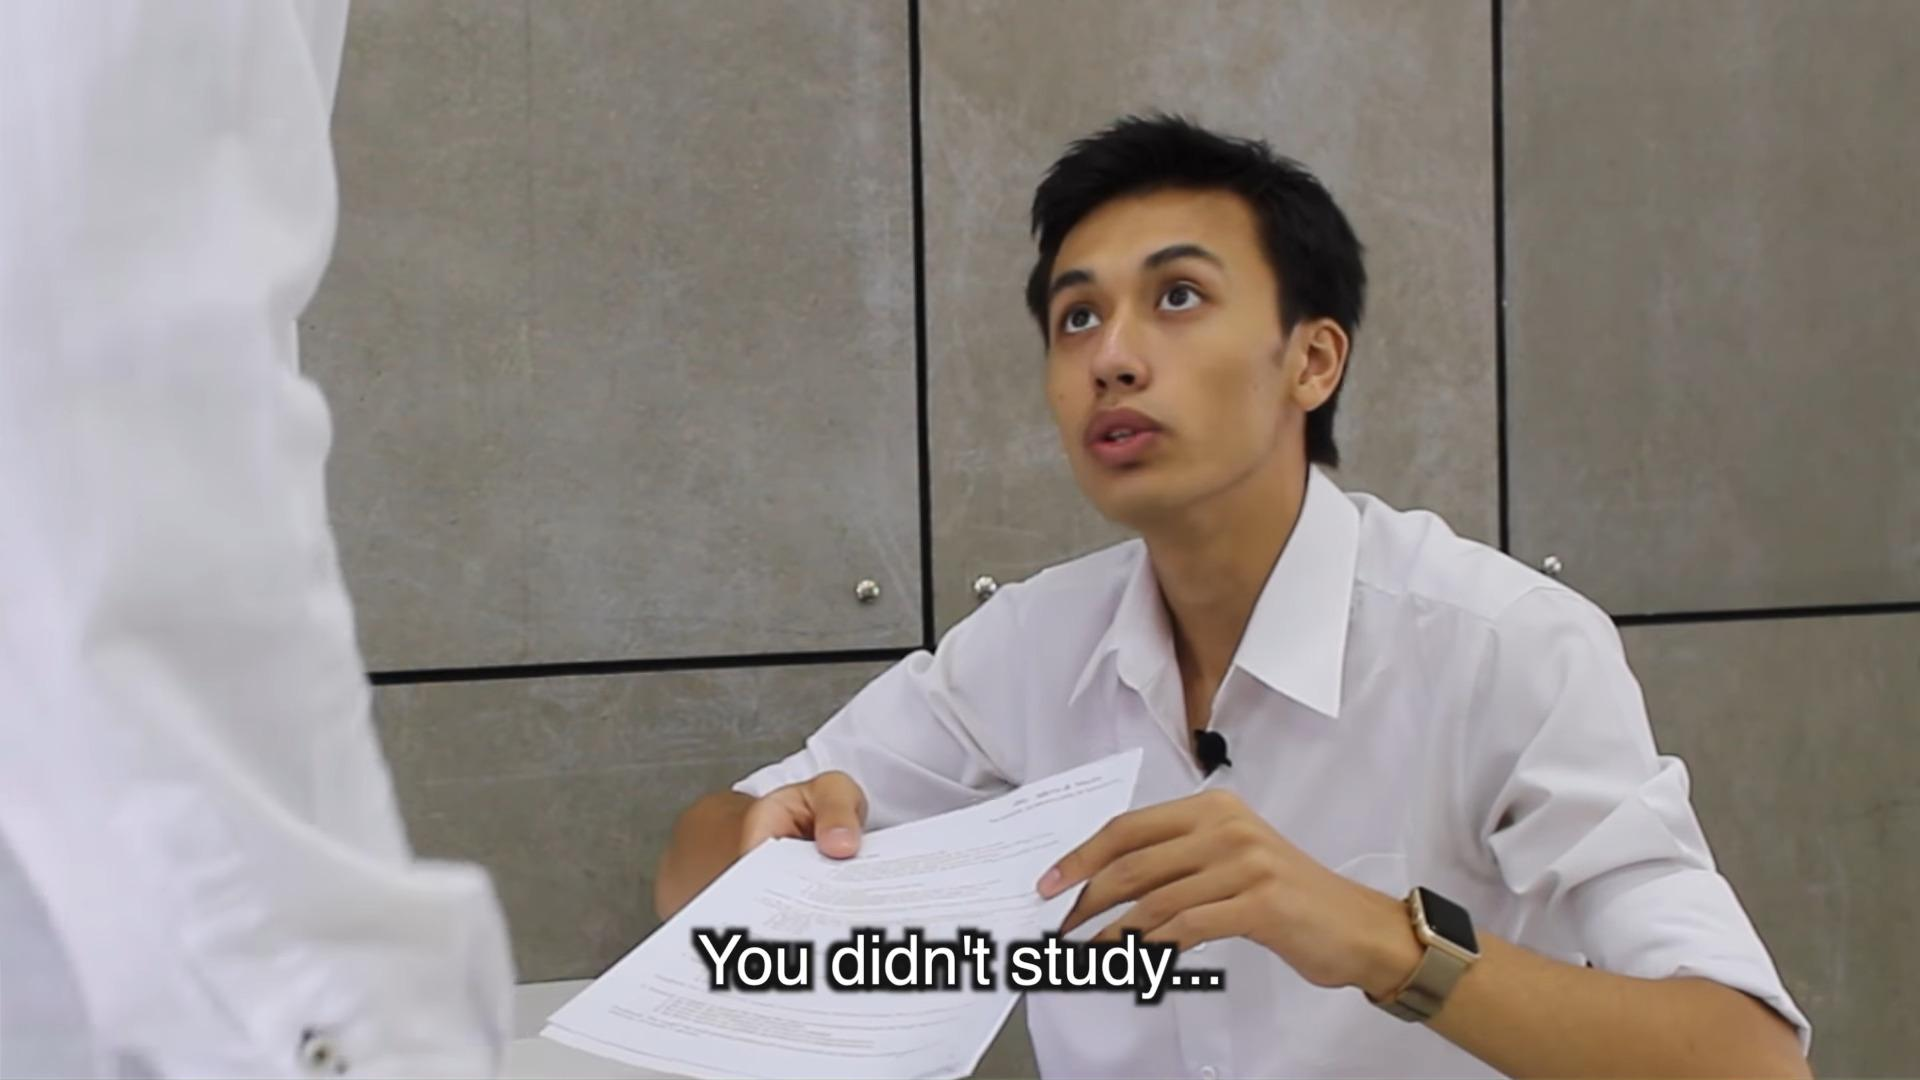good: (630, 80, 1721, 927)
